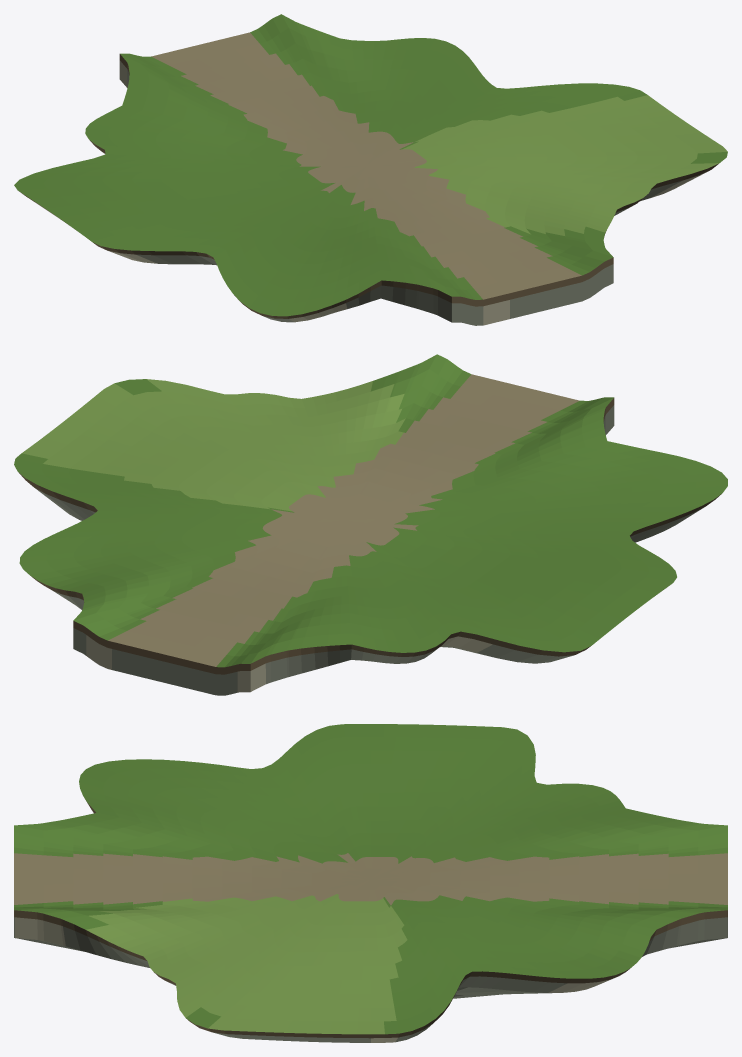
Rendered from longgrass_meadow_structure.fbx.
The picture shows the model from 3 angles, top to bottom: view 1: azimuth 30°, elevation 25°; view 2: azimuth 150°, elevation 25°; view 3: azimuth 270°, elevation 25°; orthographic projection. The views are drawn at different scales.
Visible parts, largest first — view 1: chunk_longgrass_meadow; view 2: chunk_longgrass_meadow; view 3: chunk_longgrass_meadow.
Part boxes in pixels (x1,y1,x2,y2): chunk_longgrass_meadow: (14,14,727,325); chunk_longgrass_meadow: (14,354,727,695); chunk_longgrass_meadow: (14,724,727,1042).
Size of the model in its own units: 256 by 39.5 by 256.
